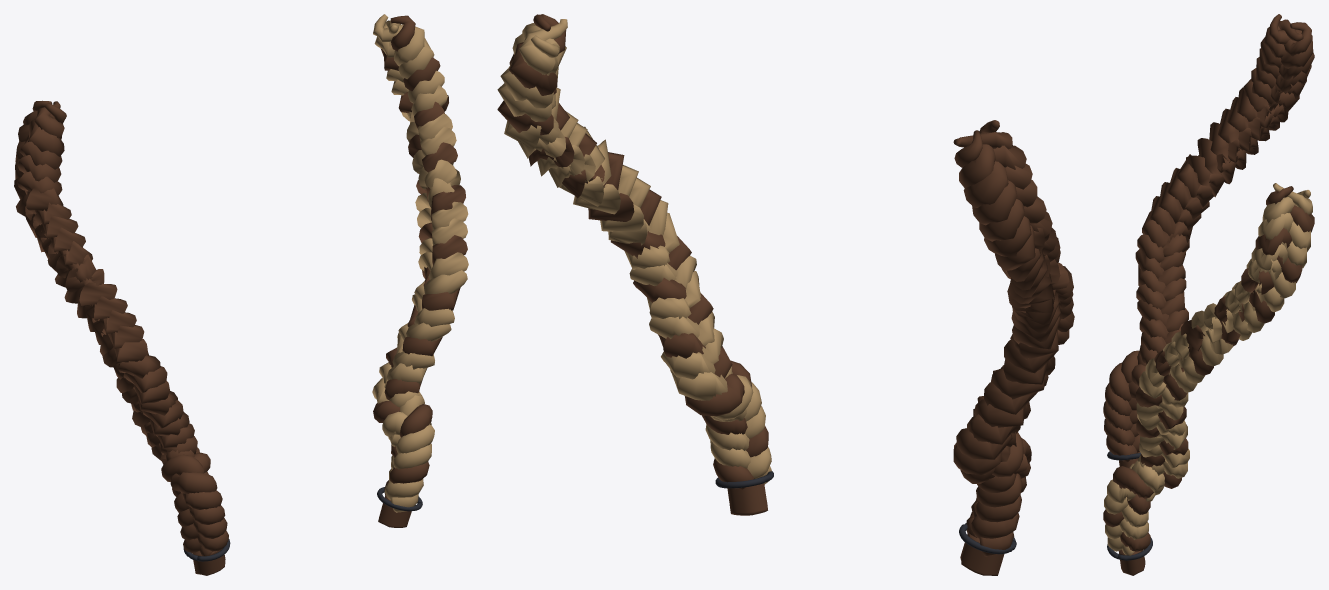
Rendered from Highlights-ee65173c22e9251-hair.glb.
The picture shows the model from 3 angles, left to right: view 1: azimuth 30°, elevation 25°; view 2: azimuth 150°, elevation 25°; view 3: azimuth 270°, elevation 25°; orthographic projection. The views are drawn at different scales.
Visible parts, largest first — view 1: 226 hairLengths / Hair / chestnut226, 226 hairLengths / Hair / ties226; view 2: 226 hairLengths / Hair / chestnut226, 226 hairLengths / Hair / ties226; view 3: 226 hairLengths / Hair / chestnut226, 226 hairLengths / Hair / ties226.
Part boxes in pixels (bbox=[...]): 226 hairLengths / Hair / chestnut226: bbox=[14, 14, 468, 575]; 226 hairLengths / Hair / ties226: bbox=[183, 487, 422, 561]; 226 hairLengths / Hair / chestnut226: bbox=[497, 14, 1074, 575]; 226 hairLengths / Hair / ties226: bbox=[715, 471, 1016, 554]; 226 hairLengths / Hair / chestnut226: bbox=[1103, 14, 1314, 575]; 226 hairLengths / Hair / ties226: bbox=[1107, 451, 1152, 560].
Size of the model in its own units: 1.09 by 1.05 by 0.4747.
